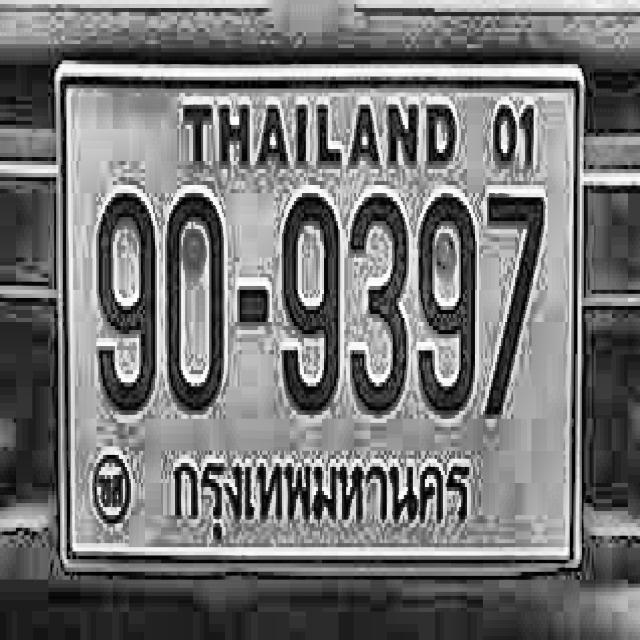license-plate: (60, 55, 593, 570)
